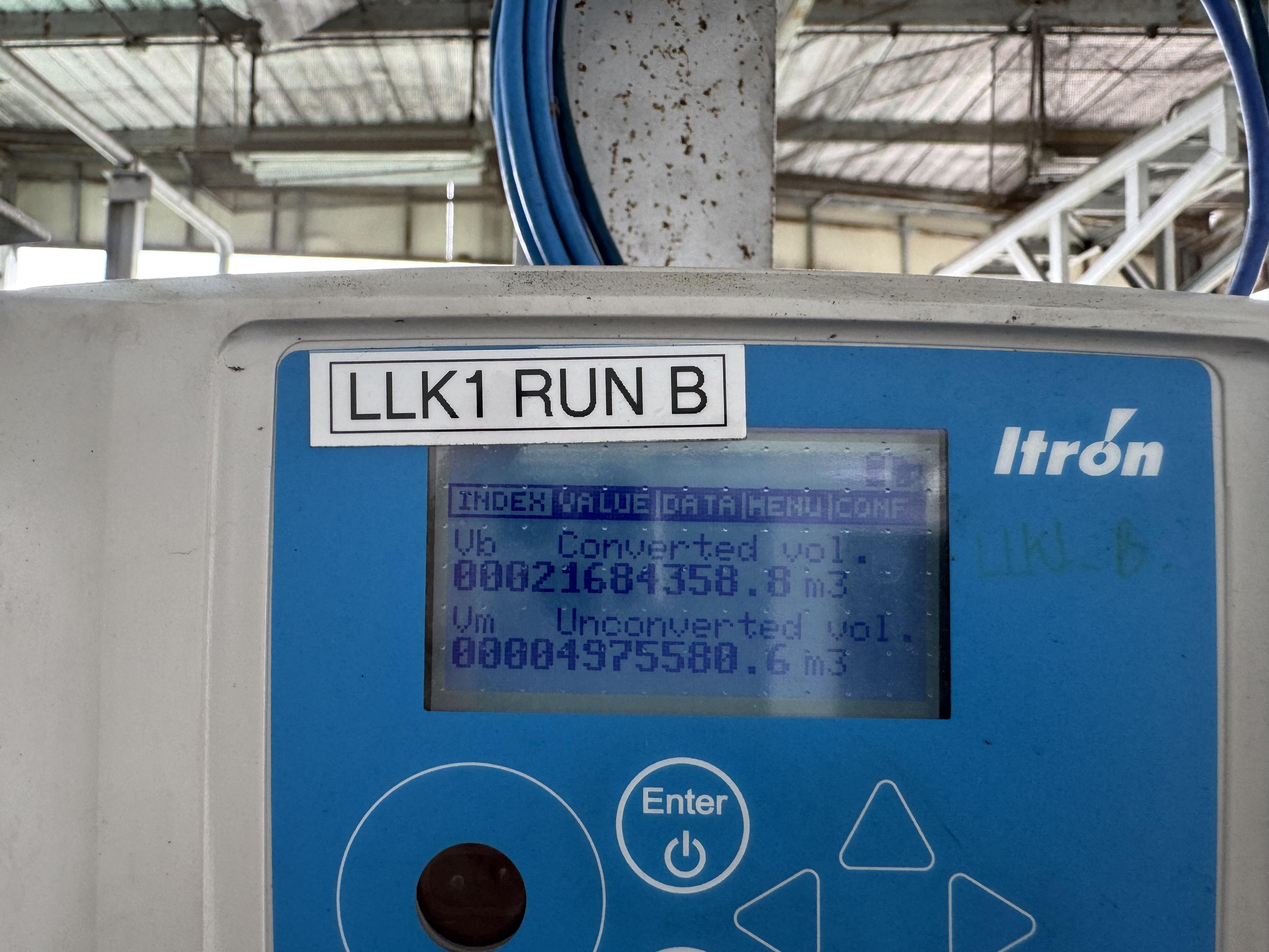digital_screen: (424, 424, 955, 717)
